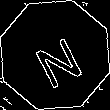N_NW: (26, 23, 84, 87)
